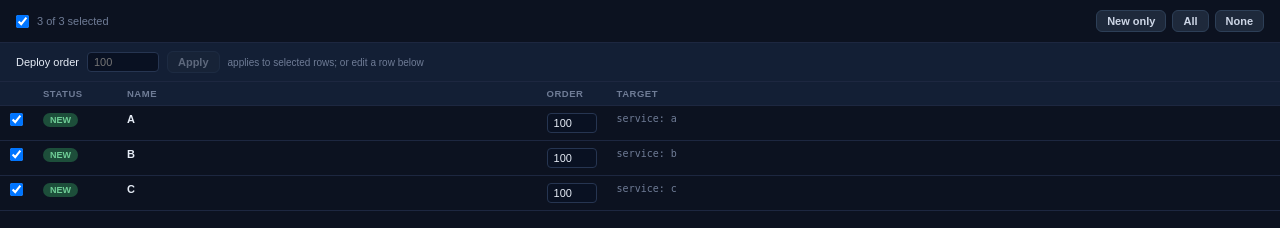
Test case: MergeTable order editing › refuses a bulk order outside 0-99999
Type "100000" into the field with class "mt-bulk-inp" at (123, 62), box [87, 52, 159, 72]
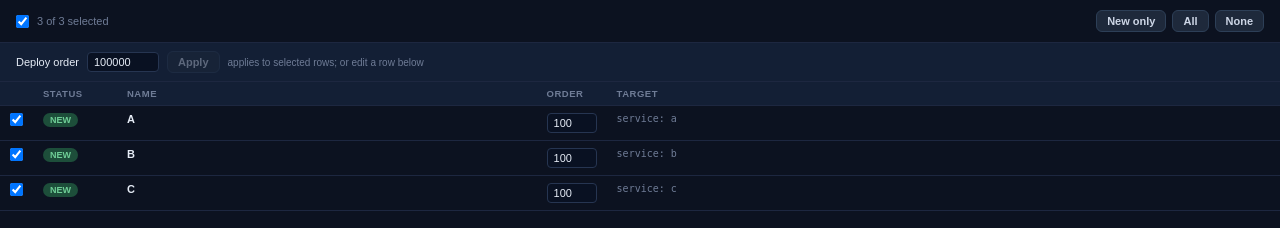
Check: the button "Apply" is disabled, box [167, 51, 220, 73]
Replace the text in the field with class "mt-bulk-inp" with "50" at (123, 62), box [87, 52, 159, 72]
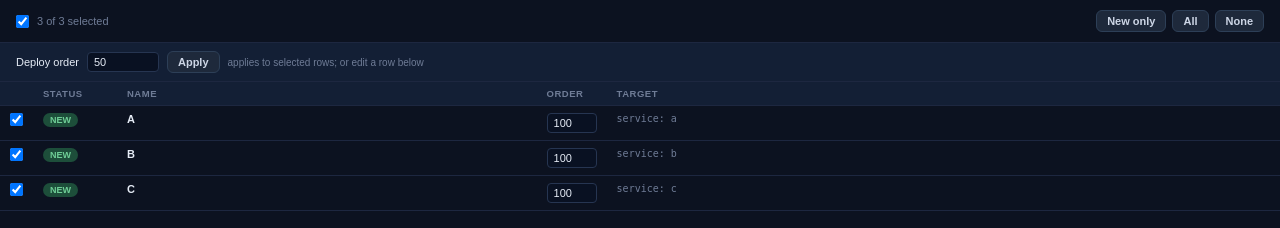
Check: the button "Apply" is enabled, box [167, 51, 220, 73]
